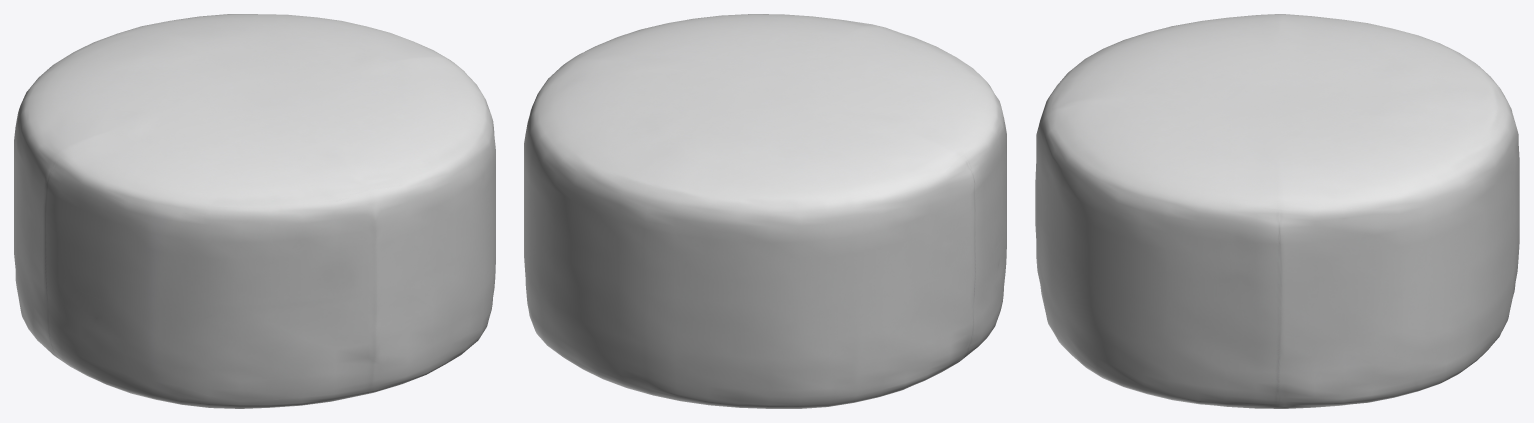
File: Ottoman_Leather_White_20InchesTall_0222192344_texture.glb
3 renders of one model, left to right at view 1: azimuth 30°, elevation 25°; view 2: azimuth 150°, elevation 25°; view 3: azimuth 270°, elevation 25°, orthographic.
Parts seen in each view (by area): view 1: Mesh_0; view 2: Mesh_0; view 3: Mesh_0.
Boxes of the visible parts, x1,y1,x2,y2 form: Mesh_0: (14, 14, 495, 408); Mesh_0: (524, 14, 1006, 408); Mesh_0: (1035, 14, 1519, 408).
Size of the model in its own units: 0.9778 by 0.508 by 0.9778.
Materials: 1 (1 with a texture image).
